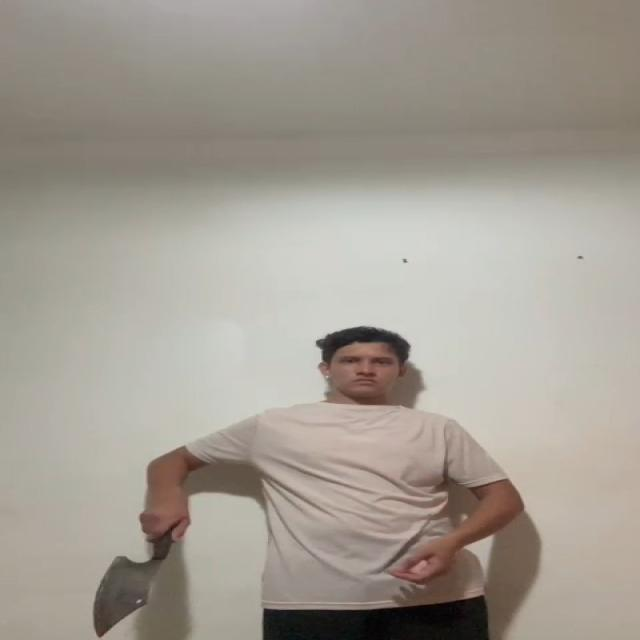knife: (82, 556, 166, 640)
